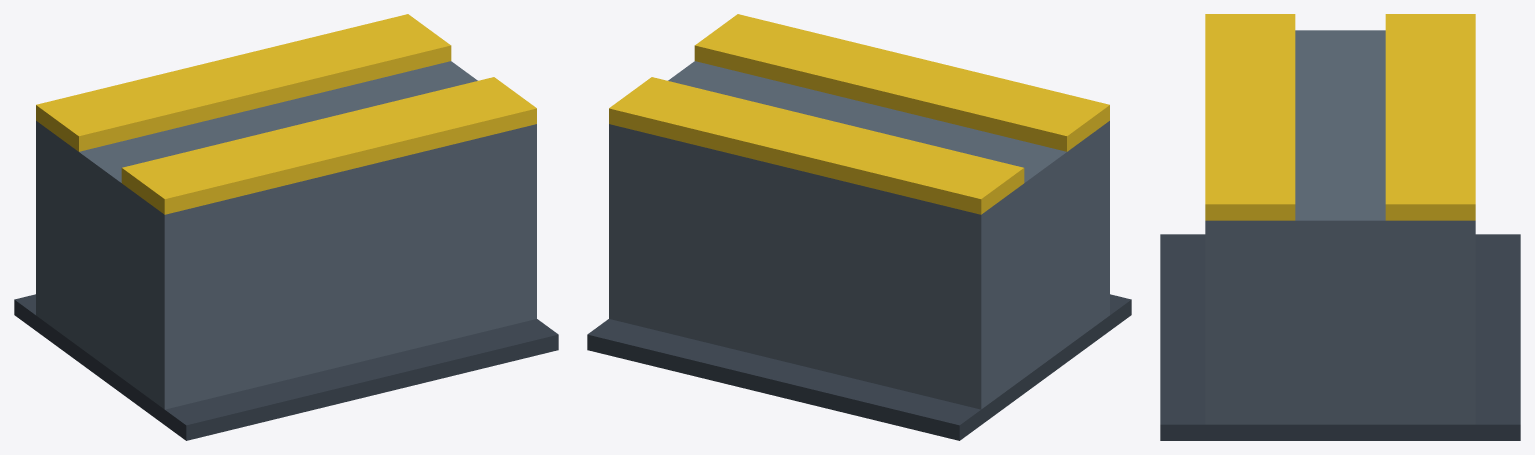
The model's file is pride_monorail_slim.obj.
The picture shows the model from 3 angles, left to right: view 1: azimuth 30°, elevation 25°; view 2: azimuth 150°, elevation 25°; view 3: azimuth 270°, elevation 25°; orthographic projection. The views are drawn at different scales.
Visible parts, largest first — view 1: RAIL_BASE, RAIL_LEFT, RAIL_RIGHT; view 2: RAIL_BASE, RAIL_RIGHT, RAIL_LEFT; view 3: RAIL_BASE, RAIL_LEFT, RAIL_RIGHT.
Part boxes in pixels (bbox=[...]): RAIL_BASE: bbox=[14, 61, 558, 440]; RAIL_LEFT: bbox=[36, 14, 451, 151]; RAIL_RIGHT: bbox=[121, 77, 536, 214]; RAIL_BASE: bbox=[587, 61, 1131, 440]; RAIL_RIGHT: bbox=[694, 14, 1109, 151]; RAIL_LEFT: bbox=[609, 77, 1024, 214]; RAIL_BASE: bbox=[1160, 30, 1520, 440]; RAIL_LEFT: bbox=[1385, 14, 1475, 220]; RAIL_RIGHT: bbox=[1205, 14, 1295, 220].
Size of the model in its own units: 1 by 0.58 by 0.8.
1 material, 1 textured.
